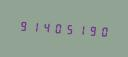five: (61, 19, 71, 37)
four: (39, 18, 49, 35)
nine: (17, 16, 27, 34), (83, 21, 93, 39)
one: (28, 17, 38, 35), (72, 20, 82, 38)
zero: (50, 19, 60, 36), (94, 22, 104, 39)
